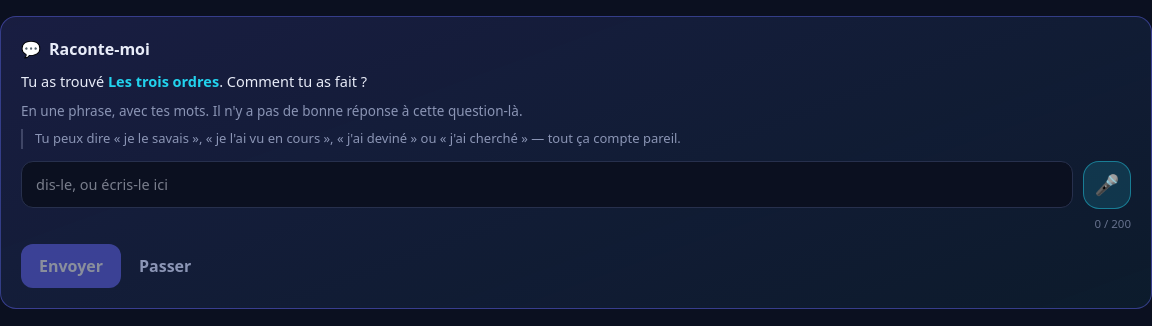
Test case: le micro › 🔴 LA TRANSCRIPTION REMPLIT LE CHAMP — elle ne s'envoie PAS toute seule
The width and height of the screenshot is (1152, 326).
Press the mouse on the button named "parler" at [1107, 184], box x1=1083 y1=160 x2=1131 y2=208
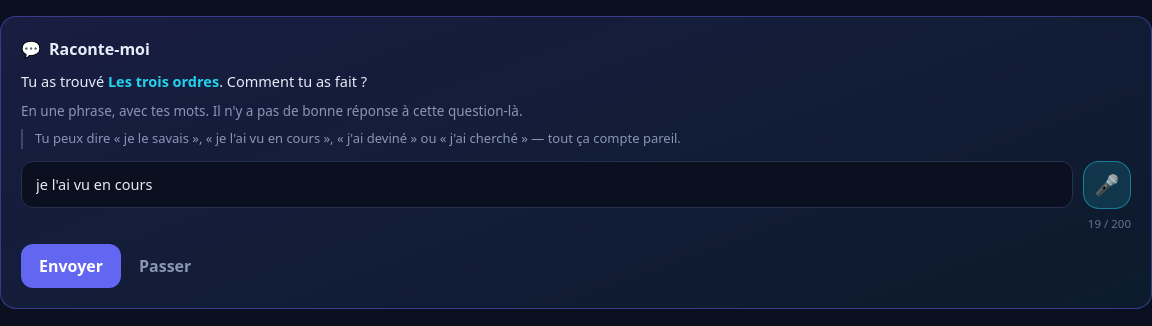
Expected: the field named "Comment tu as trouvé" holds "je l'ai vu en cours", x1=21 y1=160 x2=1073 y2=208
